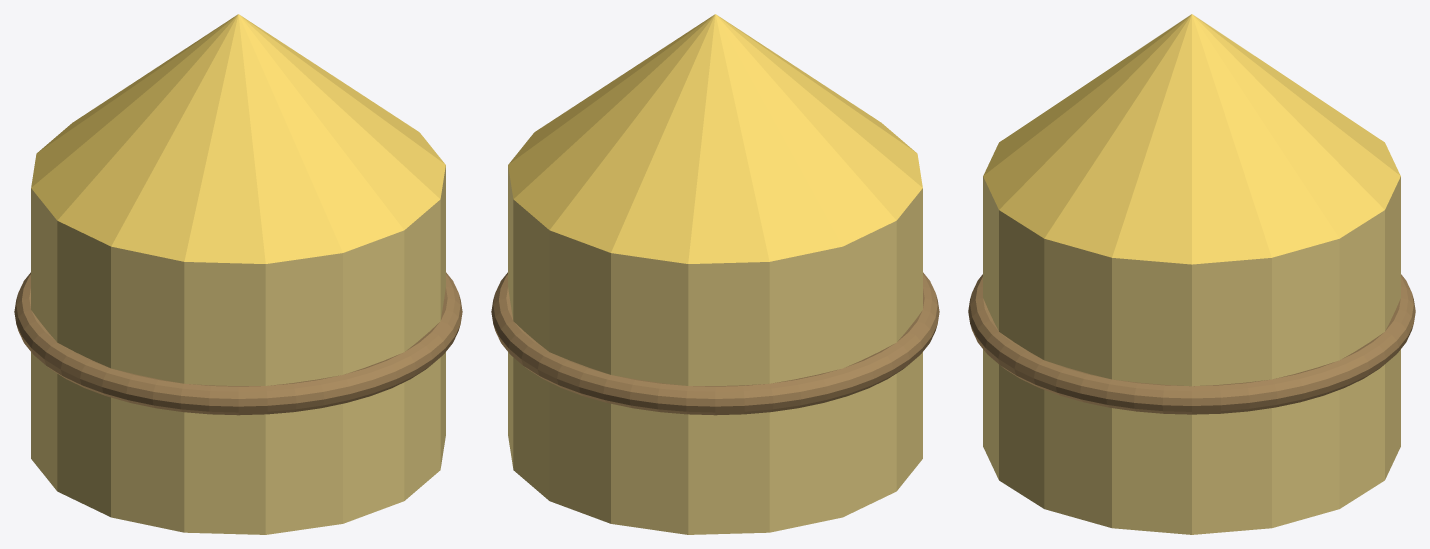
File: hay.glb
3 renders of one model, left to right at view 1: azimuth 30°, elevation 25°; view 2: azimuth 150°, elevation 25°; view 3: azimuth 270°, elevation 25°, orthographic.
Parts seen in each view (by area): view 1: HayBase, HayTop, HayBand; view 2: HayBase, HayTop, HayBand; view 3: HayBase, HayTop, HayBand.
Part boxes in pixels (bbox=[...]): HayBase: bbox=[31, 165, 445, 534]; HayTop: bbox=[31, 14, 445, 263]; HayBand: bbox=[14, 272, 462, 415]; HayBase: bbox=[508, 165, 922, 534]; HayTop: bbox=[508, 14, 922, 263]; HayBand: bbox=[491, 272, 939, 415]; HayBase: bbox=[983, 176, 1400, 534]; HayTop: bbox=[983, 14, 1400, 264]; HayBand: bbox=[968, 274, 1415, 414].
Size of the model in its own units: 0.9 by 0.96 by 0.9.
